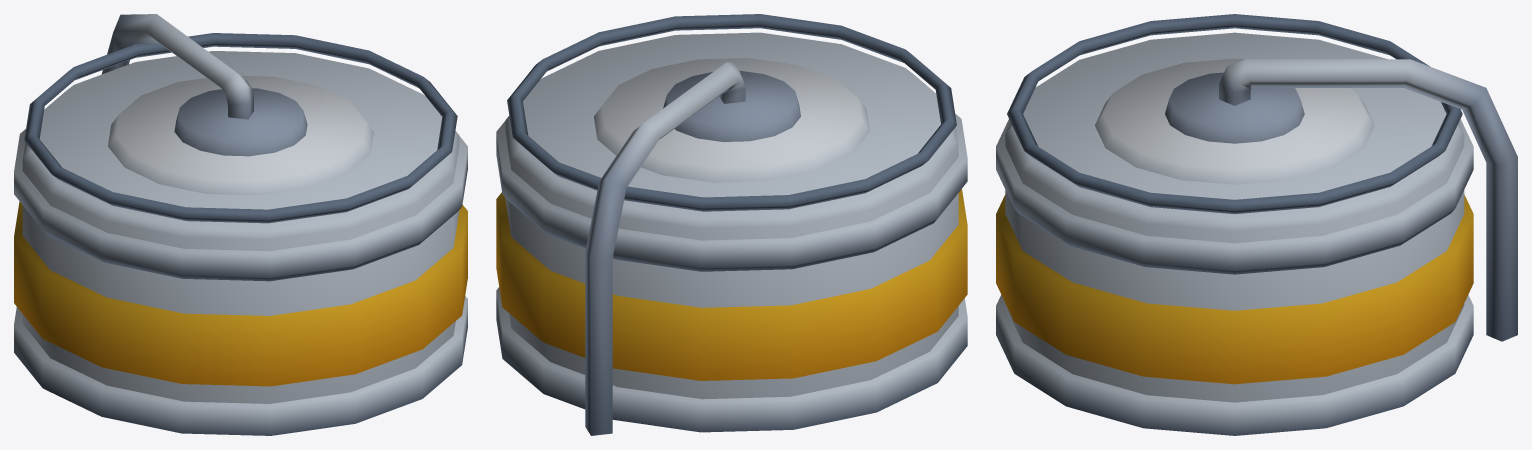
The model's file is tank-large.glb.
3 views of the same model, side by side, from view 1: azimuth 30°, elevation 25°; view 2: azimuth 150°, elevation 25°; view 3: azimuth 270°, elevation 25° (orthographic). The views are drawn at different scales.
Visible parts, largest first — view 1: detail-tank-large; view 2: detail-tank-large; view 3: detail-tank-large.
Boxes of the visible parts, box(x1,y1,x2,y2) form: detail-tank-large: box(14, 14, 467, 435); detail-tank-large: box(496, 14, 967, 435); detail-tank-large: box(996, 14, 1517, 435).
Bounding box in the file's own units: 3.29 × 2.1 × 3.6.
